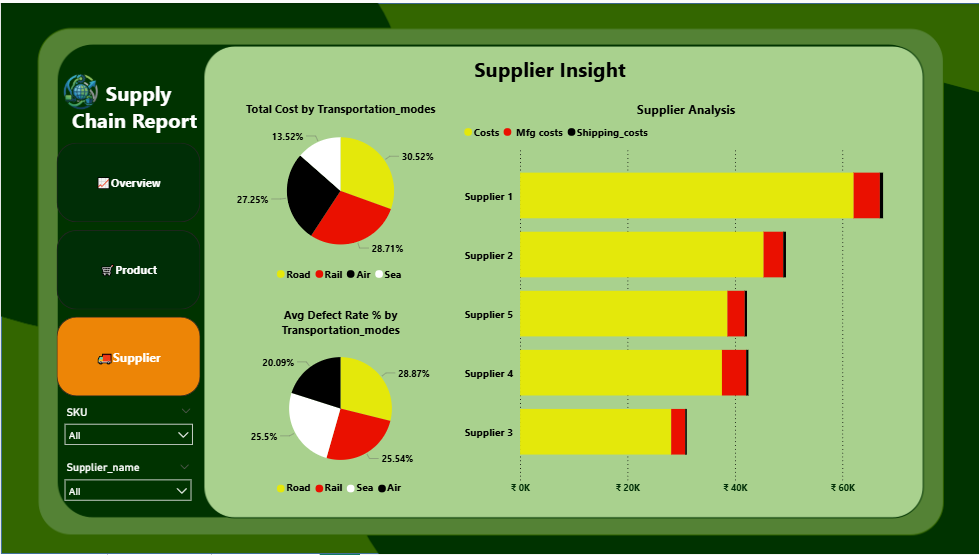

Layout of this report page (visuals, bound fields, positions):
{"tool":"powerbi","page":{"name":"🚚Supplier","canvas":[1280,720],"ordinal":2},"visuals":[{"type":"pieChart","fields":{"Category":["supply_chain.Transportation_modes"],"Y":["Measures Table.Total Cost"]},"box":[288.3,127.7,311.7,245.8],"z":0},{"type":"pageNavigator","box":[73.9,182.1,188.4,333.6],"z":0,"group":"g1"},{"type":"pieChart","fields":{"Category":["supply_chain.Transportation_modes"],"Y":["Measures Table.Avg Defect Rate %"]},"box":[288.3,396.8,311.7,256.8],"z":1000},{"type":"slicer","fields":{"Values":["supply_chain.SKU"]},"box":[73.9,521.6,188.4,76.5],"z":1000,"group":"g1"},{"type":"barChart","title":"Supplier Analysis","fields":{"Category":["supply_chain.Supplier_name"],"Y":["Sum(supply_chain.Costs)","Sum(supply_chain.Mfg costs)","Sum(supply_chain.Shipping_costs)"]},"box":[600,127.7,591.8,525.9],"z":2000},{"type":"slicer","fields":{"Values":["supply_chain.Supplier_name"]},"box":[73.9,594.2,186.4,66.7],"z":2000,"group":"g1"},{"type":"textbox","box":[614.3,62.8,219.8,47.1],"z":3000},{"type":"textbox","box":[88.6,94.2,181,128.1],"z":3000,"group":"g1"},{"type":"group","id":"g1","title":"Group 1","box":[33.4,41.2,236.2,619.7],"z":3001},{"type":"image","box":[33.4,41.2,143.5,150.1],"z":4000,"group":"g1"}]}

Visuals, with their boxes in screenshot pixels (x1, y1, x2, y2), scaled from the page's 1280x720 canvas onto the 979x555 screenshot:
pieChart - supply_chain.Transportation_modes x Measures Table.Total Cost: locate(221, 98, 459, 288)
pageNavigator: locate(57, 140, 201, 398)
pieChart - supply_chain.Transportation_modes x Measures Table.Avg Defect Rate %: locate(221, 306, 459, 504)
slicer - supply_chain.SKU: locate(57, 402, 201, 461)
"Supplier Analysis" barChart: locate(459, 98, 912, 504)
slicer - supply_chain.Supplier_name: locate(57, 458, 199, 509)
textbox: locate(470, 48, 638, 85)
textbox: locate(68, 73, 206, 171)
"Group 1" group: locate(26, 32, 206, 509)
image: locate(26, 32, 135, 147)
